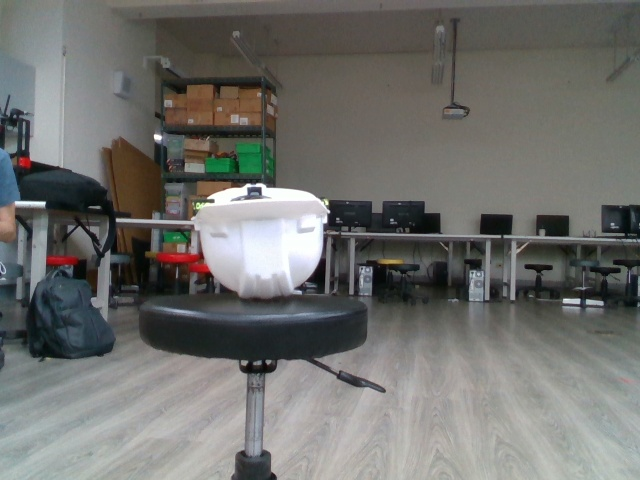helmet: (186, 180, 333, 301)
